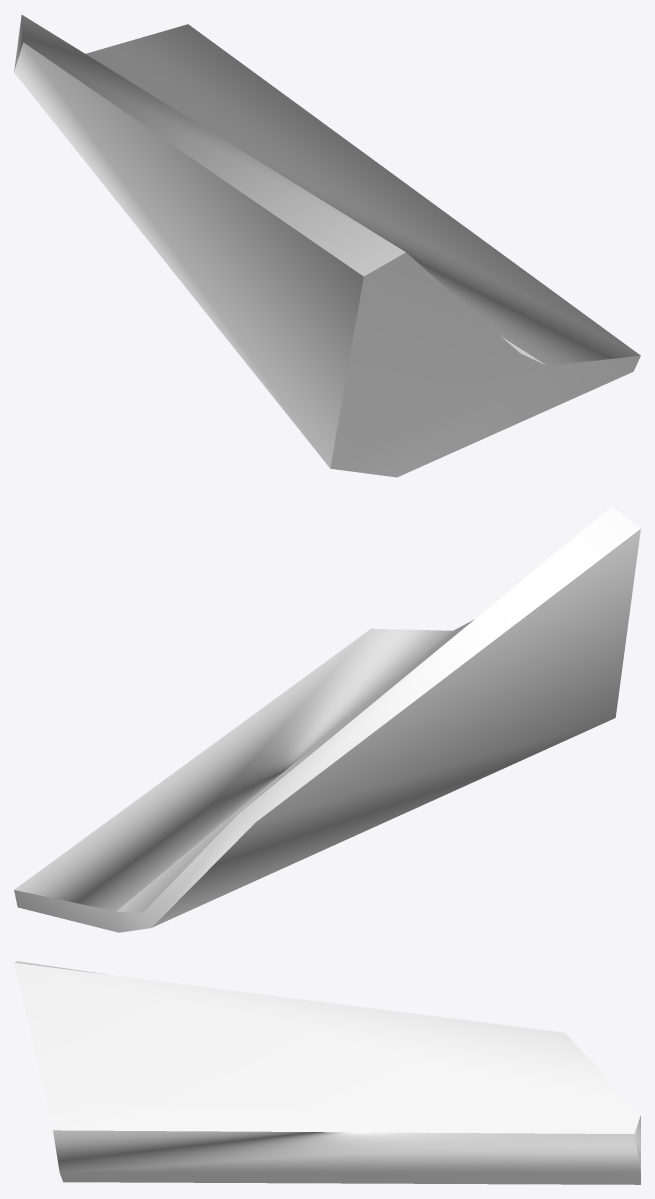
Rendered from wg_l_b_ssk.glb.
3 renders of one model, top to bottom at view 1: azimuth 30°, elevation 25°; view 2: azimuth 150°, elevation 25°; view 3: azimuth 270°, elevation 25°, orthographic. The views are drawn at different scales.
Parts seen in each view (by area): view 1: wg_l_b_ssk; view 2: wg_l_b_ssk; view 3: wg_l_b_ssk.
Boxes of the visible parts, box(x1,y1,x2,y2) form: wg_l_b_ssk: box(14, 15, 640, 477); wg_l_b_ssk: box(14, 506, 640, 932); wg_l_b_ssk: box(14, 961, 640, 1184).
Bounding box in the file's own units: 0.1546 × 0.1245 × 0.4212.
Materials: 1 (1 with a texture image).
